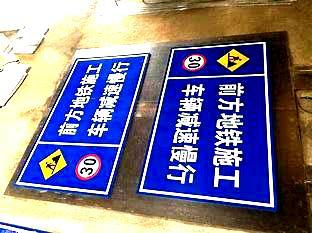sign: (153, 43, 275, 212), (39, 54, 130, 202)
